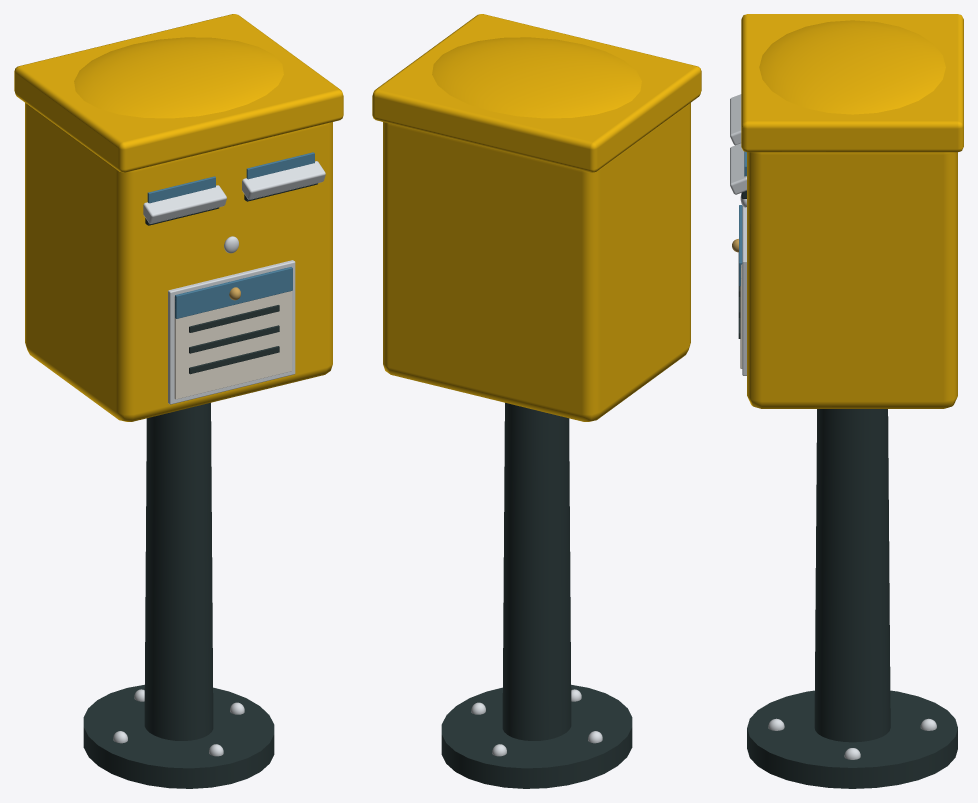
Rendered from wp-boite-aux-lettres-de-rue.glb.
3 renders of one model, left to right at view 1: azimuth 30°, elevation 25°; view 2: azimuth 150°, elevation 25°; view 3: azimuth 270°, elevation 25°, orthographic.
Visible parts, largest first — view 1: wp-boite-aux-lettres-de-rue; view 2: wp-boite-aux-lettres-de-rue; view 3: wp-boite-aux-lettres-de-rue.
Part boxes in pixels (x1=…): wp-boite-aux-lettres-de-rue: x1=14, y1=14, x2=343, y2=788; wp-boite-aux-lettres-de-rue: x1=372, y1=14, x2=701, y2=788; wp-boite-aux-lettres-de-rue: x1=730, y1=14, x2=963, y2=788.
Bounding box in the file's own units: 0.45 × 1.3 × 0.3983.
